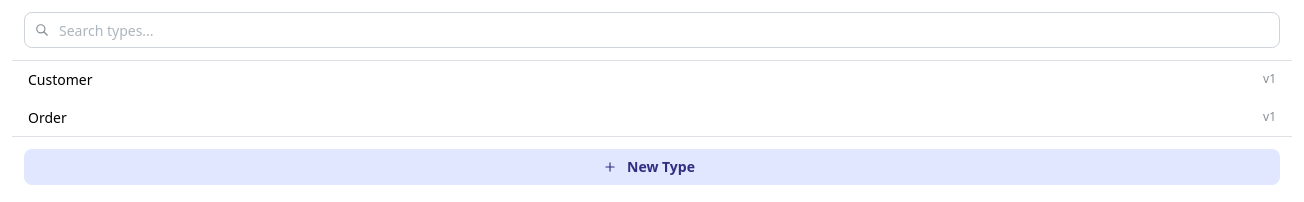
Test: TypeList › filters types by search
Type "Ord" into the field with placeholder "Search types...".
click(652, 30); type("Ord")  # box x1=24 y1=12 x2=1280 y2=48
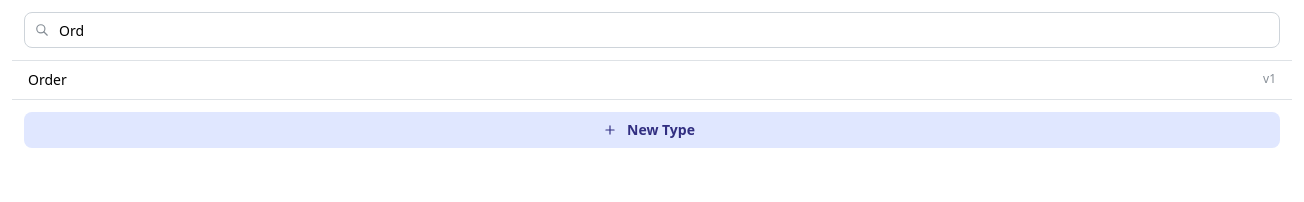
Expected: the text "Order" is shown, x1=28 y1=69 x2=67 y2=91
Now the button "Customer" is gone
